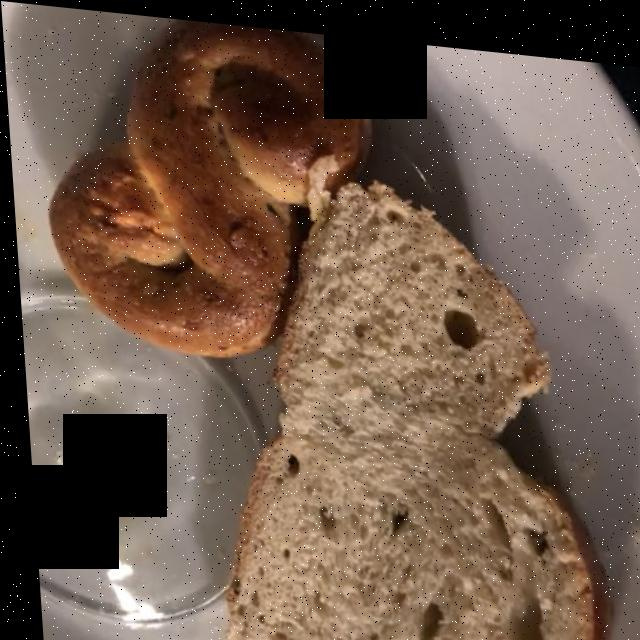braided-white-loaf: (51, 39, 593, 640)
